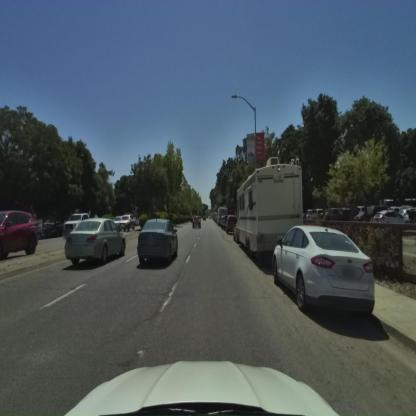car: (272, 224, 378, 312), (65, 218, 127, 266), (136, 218, 180, 268), (0, 212, 40, 262), (65, 212, 92, 237), (372, 207, 411, 221), (324, 207, 354, 220), (114, 214, 135, 232), (304, 208, 324, 224), (225, 214, 237, 233)
truck: (232, 162, 304, 265)
